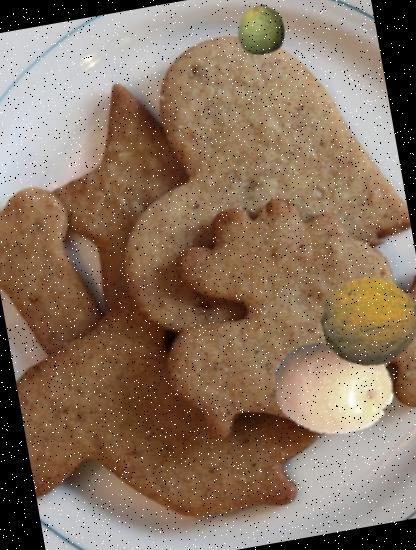Cantaloupe: (315, 265, 416, 377)
Kumquats: (263, 318, 403, 459)
Limes: (232, 0, 291, 59)
